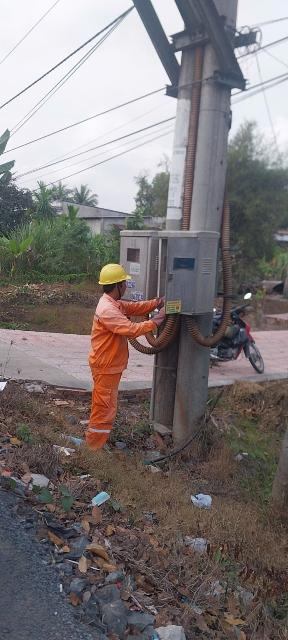gloves: (147, 306, 174, 325), (152, 295, 176, 307)
helmet: (96, 260, 130, 287)
